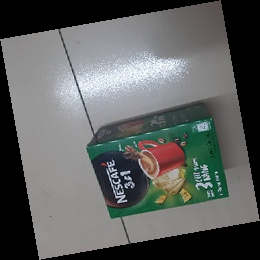Nes Rang: (85, 100, 231, 221)
